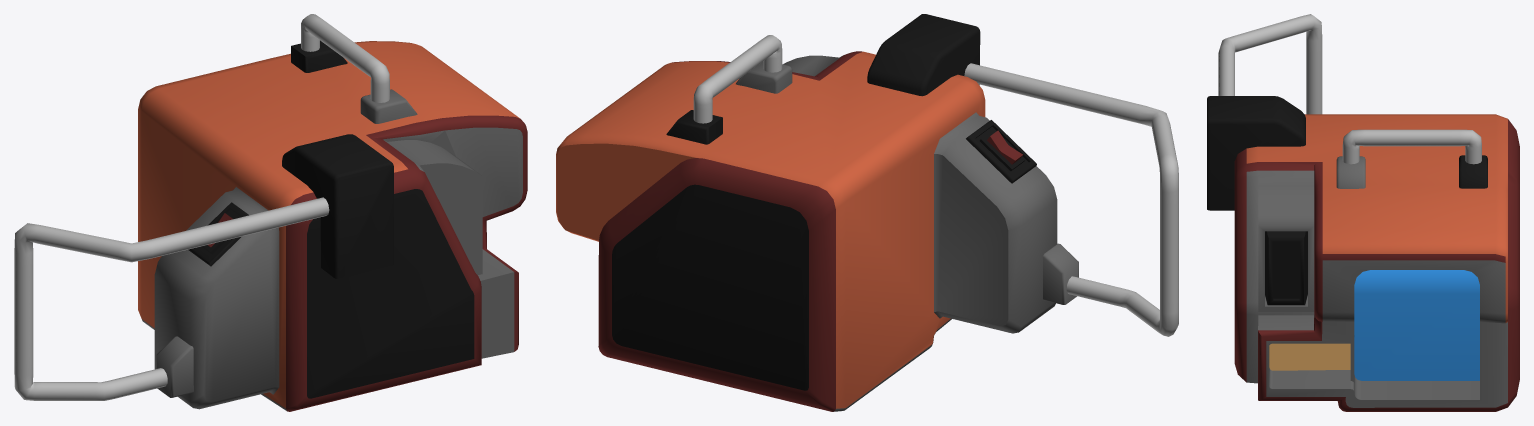
Rendered from MDL_FlashLight.fbx.
3 views of the same model, side by side, from view 1: azimuth 30°, elevation 25°; view 2: azimuth 150°, elevation 25°; view 3: azimuth 270°, elevation 25° (orthographic). The views are drawn at different scales.
Visible parts, largest first — view 1: FlashLight, NurbsPath.001, Cube.034, NurbsPath, Cube.033, Cube.035, Cube.036, Cube.037; view 2: FlashLight, NurbsPath.001, Cube.034, NurbsPath, Cube.033, Cube.037, Cube.036, Cube.035; view 3: FlashLight, Cube.034, NurbsPath.001, NurbsPath, Cube.035, Cube.036.
Part boxes in pixels (x1,y1,x2,y2): FlashLight: (138, 41, 527, 411); NurbsPath.001: (14, 197, 329, 400); Cube.034: (282, 134, 393, 278); NurbsPath: (301, 14, 389, 102); Cube.033: (156, 336, 193, 397); Cube.035: (360, 89, 417, 123); Cube.036: (291, 40, 347, 72); Cube.037: (188, 202, 248, 266); FlashLight: (556, 51, 1057, 411); NurbsPath.001: (964, 63, 1178, 336); Cube.034: (867, 14, 980, 96); NurbsPath: (693, 35, 782, 123); Cube.033: (1043, 243, 1078, 304); Cube.037: (966, 120, 1036, 183); Cube.036: (666, 110, 722, 144); Cube.035: (736, 61, 792, 93); FlashLight: (1234, 114, 1519, 411); Cube.034: (1207, 96, 1305, 210); NurbsPath.001: (1218, 14, 1322, 114); NurbsPath: (1342, 129, 1481, 164); Cube.035: (1336, 156, 1365, 188); Cube.036: (1459, 155, 1487, 188).
Bounding box in the file's own units: 213 × 111 × 128.
